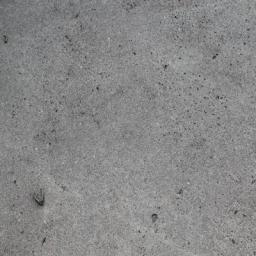FOD: (31, 186, 49, 208)
